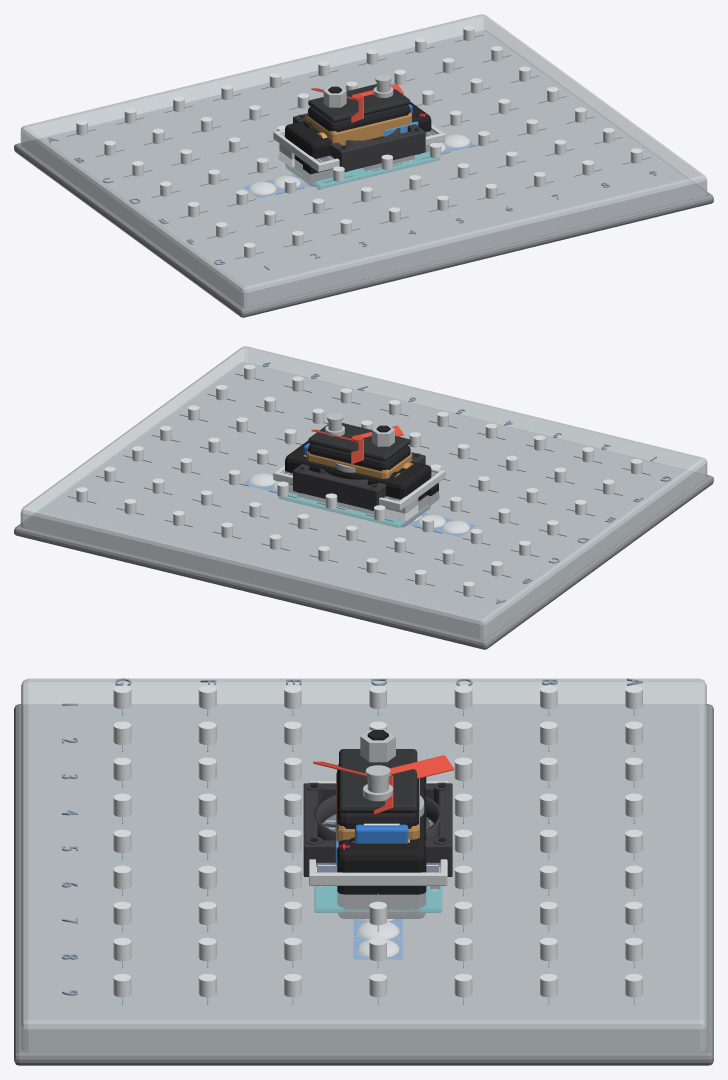
Rendered from makerspace_parts.glb.
3 renders of one model, top to bottom at view 1: azimuth 30°, elevation 25°; view 2: azimuth 150°, elevation 25°; view 3: azimuth 270°, elevation 25°, orthographic. The views are drawn at different scales.
Visible parts, largest first — view 1: snap_base_plate, snap_base_frame, vent-fan_frame00.38, snap-b1_holder, battery-9v_cap, battery-9v_band, battery-9v_can, farm-controller_pcb, solar-panel_frame-0.610; view 2: snap_base_plate, snap_base_frame, snap-b1_holder, vent-fan_frame0-0.38, battery-9v_cap, battery-9v_can, battery-9v_band, farm-controller_pcb, solar-panel_frame-0.610; view 3: snap_base_plate, snap_base_frame, snap-b1_holder, battery-9v_cap, solar-panel_frame0.610, vent-fan_frame0.380, vent-fan_venturi, farm-controller_pcb, battery-9v_can, farm-controller_relay, vent-fan_frame0-0.38, battery-9v_neg_hex (+2 smaller).
Boxes of the visible parts, box(x1,y1,x2,y2) form: snap_base_plate: box(20, 14, 707, 307); snap_base_frame: box(14, 30, 713, 317); vent-fan_frame00.38: box(338, 130, 425, 171); snap-b1_holder: box(285, 102, 431, 186); battery-9v_cap: box(308, 84, 410, 122); battery-9v_band: box(306, 112, 411, 145); battery-9v_can: box(308, 104, 410, 139); farm-controller_pcb: box(279, 151, 439, 188); solar-panel_frame-0.610: box(273, 131, 321, 171); snap_base_plate: box(20, 346, 707, 639); snap_base_frame: box(14, 362, 713, 649); snap-b1_holder: box(285, 441, 431, 527); vent-fan_frame0-0.38: box(293, 469, 380, 510); battery-9v_cap: box(308, 423, 410, 461); battery-9v_can: box(308, 443, 410, 470); battery-9v_band: box(306, 451, 411, 478); farm-controller_pcb: box(279, 493, 439, 527); solar-panel_frame-0.610: box(396, 470, 445, 510); snap_base_plate: box(21, 678, 706, 1051); snap_base_frame: box(14, 704, 713, 1065); snap-b1_holder: box(337, 777, 426, 918); battery-9v_cap: box(339, 749, 417, 812); solar-panel_frame0.610: box(309, 872, 447, 885); vent-fan_frame0.380: box(303, 840, 452, 876); vent-fan_venturi: box(314, 794, 441, 840); farm-controller_pcb: box(314, 886, 441, 912); battery-9v_can: box(337, 764, 418, 828); farm-controller_relay: box(355, 824, 408, 843); vent-fan_frame0-0.38: box(438, 784, 452, 876); battery-9v_neg_hex: box(360, 730, 395, 762).
Size of the model in its own units: 4.7 by 1.21 by 3.94.
